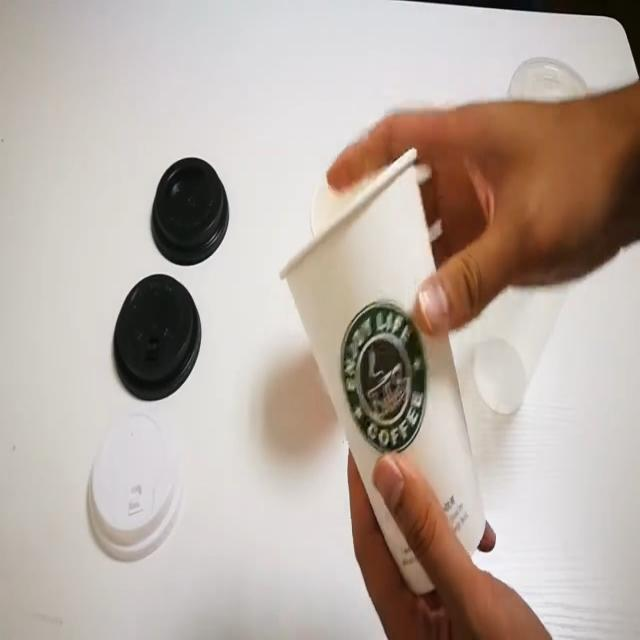cup: (276, 144, 484, 596)
